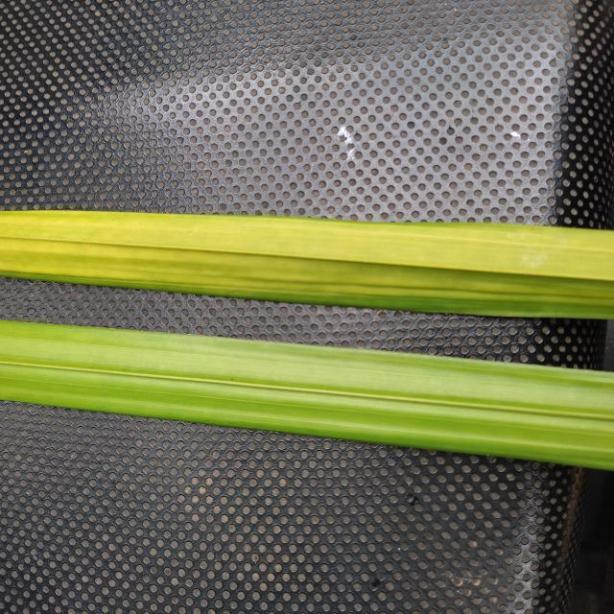nitrogen: (0, 313, 614, 472), (0, 200, 614, 323)
